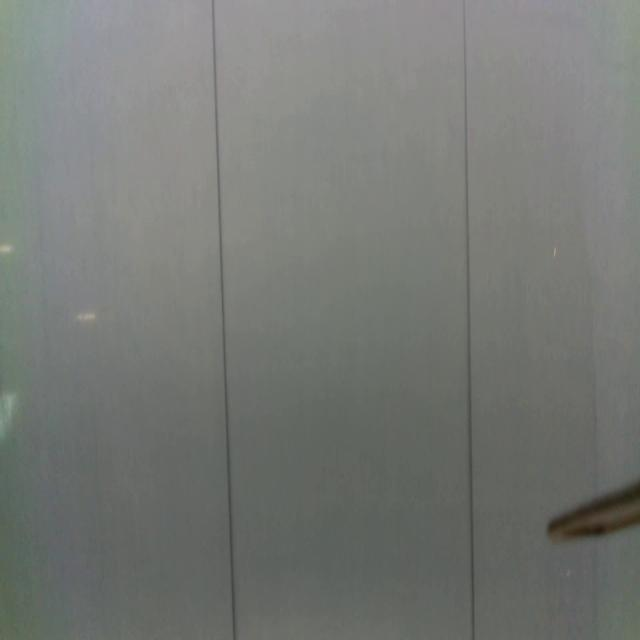crease: (209, 0, 240, 640), (462, 0, 477, 640)
hole: (552, 243, 558, 261)
